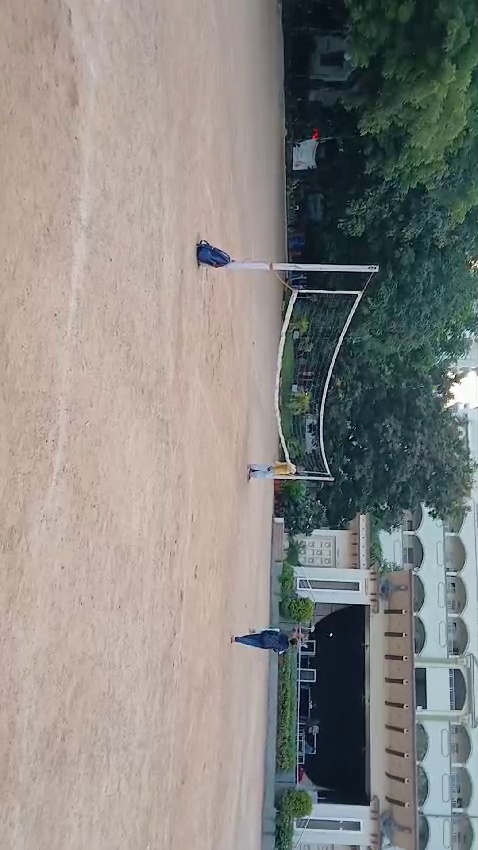bag: (196, 238, 235, 278)
